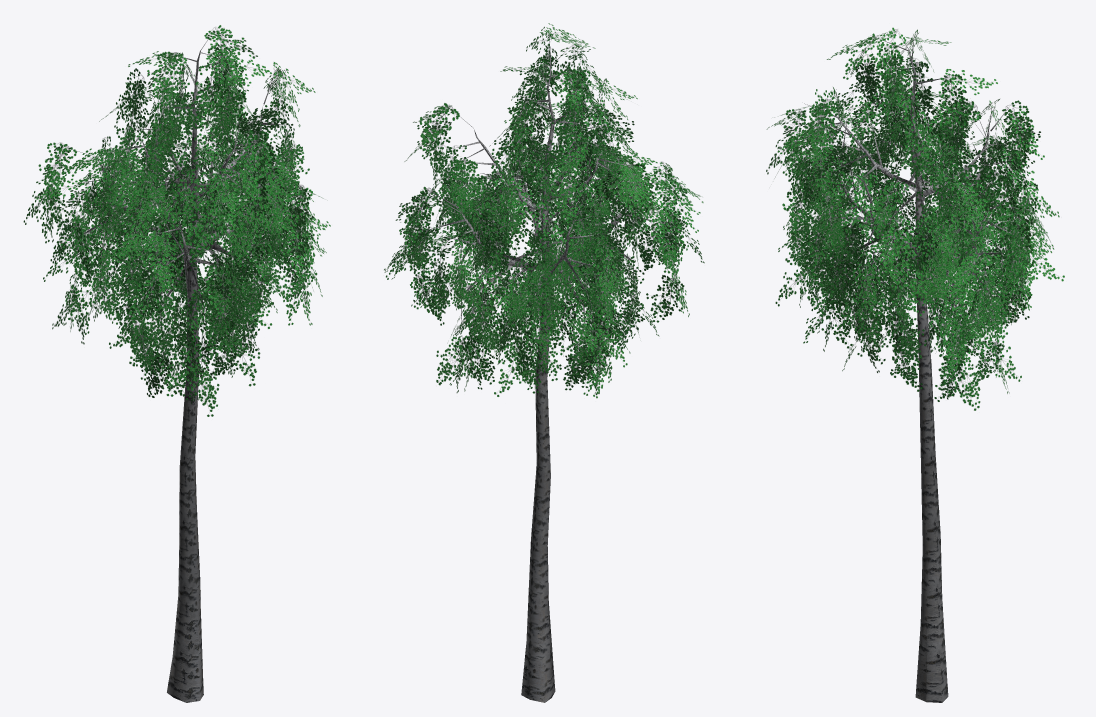
The model's file is Birke 2.glb.
3 renders of one model, left to right at view 1: azimuth 30°, elevation 25°; view 2: azimuth 150°, elevation 25°; view 3: azimuth 270°, elevation 25°, orthographic. The views are drawn at different scales.
Visible parts, largest first — view 1: Birke 2; view 2: Birke 2; view 3: Birke 2.
Part boxes in pixels (bbox=[...]): Birke 2: bbox=[23, 25, 330, 702]; Birke 2: bbox=[384, 23, 704, 702]; Birke 2: bbox=[766, 27, 1064, 702].
Size of the model in its own units: 1.01 by 2.4 by 1.06.
2 materials, 2 textured.
